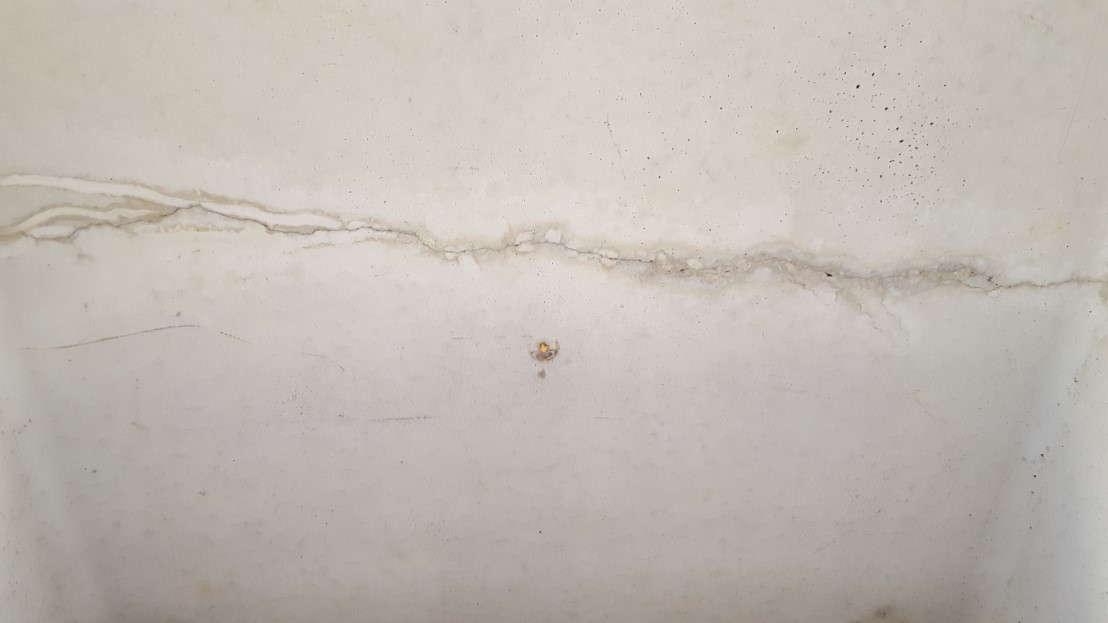Crack: (0, 169, 1108, 305), (27, 316, 368, 377)
